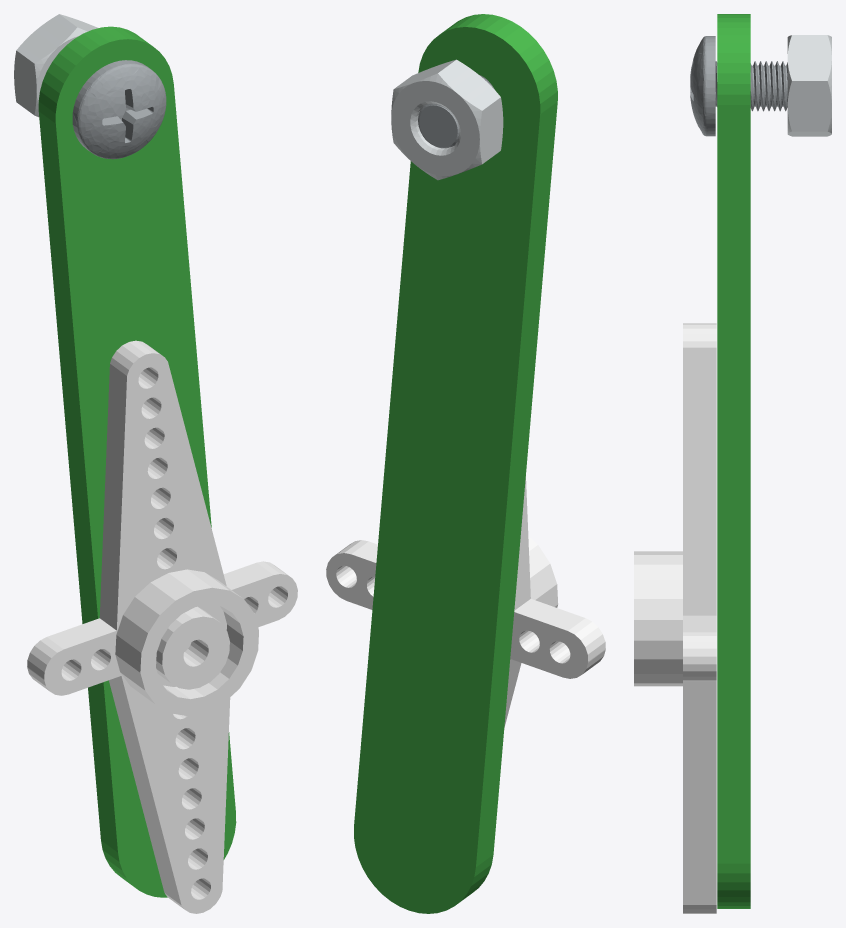
File: tinker.obj
3 views of the same model, side by side, from view 1: azimuth 30°, elevation 25°; view 2: azimuth 150°, elevation 25°; view 3: azimuth 270°, elevation 25° (orthographic). The views are drawn at different scales.
Parts seen in each view (by area): view 1: group_0_16448250, group_0_4634441, group_0_10988977, group_0_14541540; view 2: group_0_4634441, group_0_16448250, group_0_14541540, group_0_10988977; view 3: group_0_4634441, group_0_16448250, group_0_14541540, group_0_10988977.
Part boxes in pixels (bbox=[...]): group_0_16448250: bbox=[27, 340, 297, 913]; group_0_4634441: bbox=[38, 26, 236, 897]; group_0_10988977: bbox=[72, 60, 166, 159]; group_0_14541540: bbox=[14, 14, 98, 117]; group_0_4634441: bbox=[354, 14, 557, 913]; group_0_16448250: bbox=[326, 476, 605, 727]; group_0_14541540: bbox=[391, 59, 503, 180]; group_0_10988977: bbox=[418, 75, 494, 148]; group_0_4634441: bbox=[717, 14, 750, 908]; group_0_16448250: bbox=[634, 323, 716, 913]; group_0_14541540: bbox=[787, 35, 831, 136]; group_0_10988977: bbox=[690, 36, 787, 136].
Bounding box in the file's own units: 17.13 × 56.55 × 11.82.
